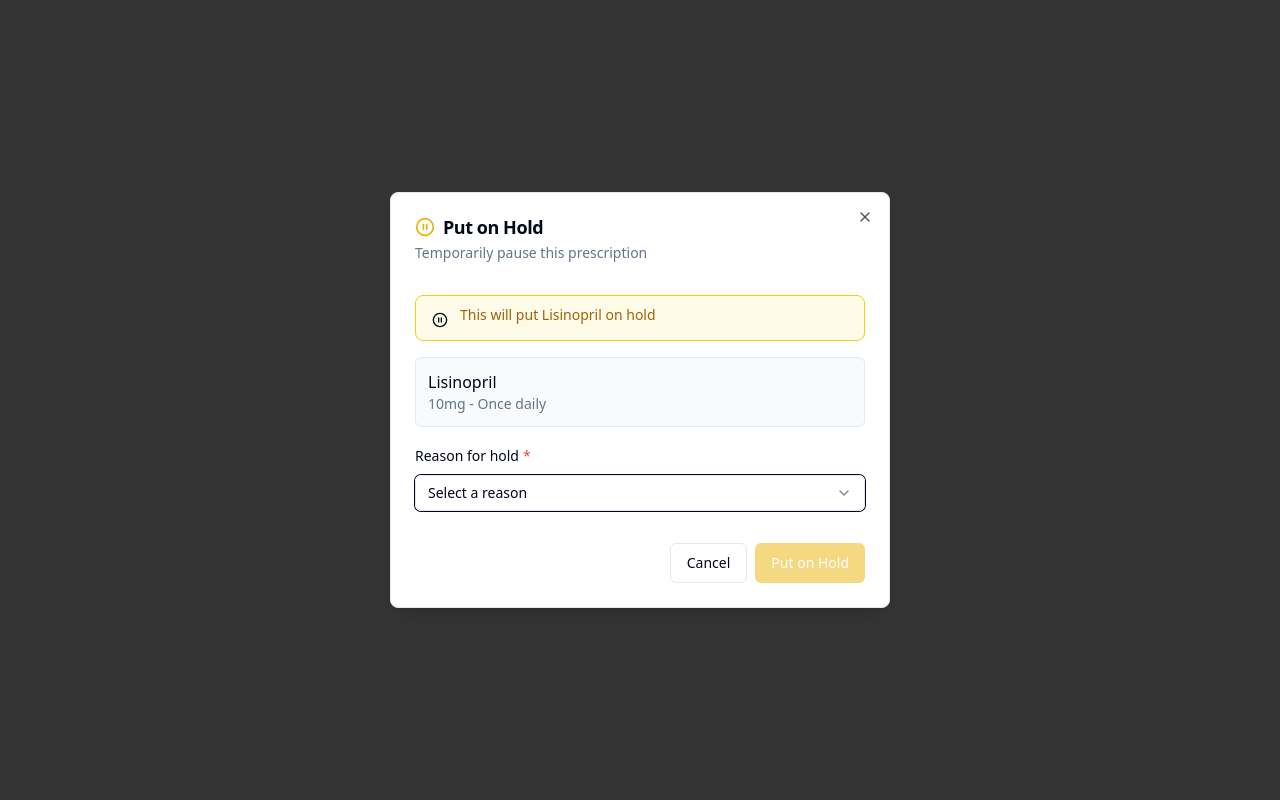
Scenario: HoldDialog › Reason Selection › opens reason dropdown on click
The width and height of the screenshot is (1280, 800).
What coordinates should you click on to do the following:
click the dropdown
I would click on:
 (478, 492)
Its box is 415,475 -> 865,511.
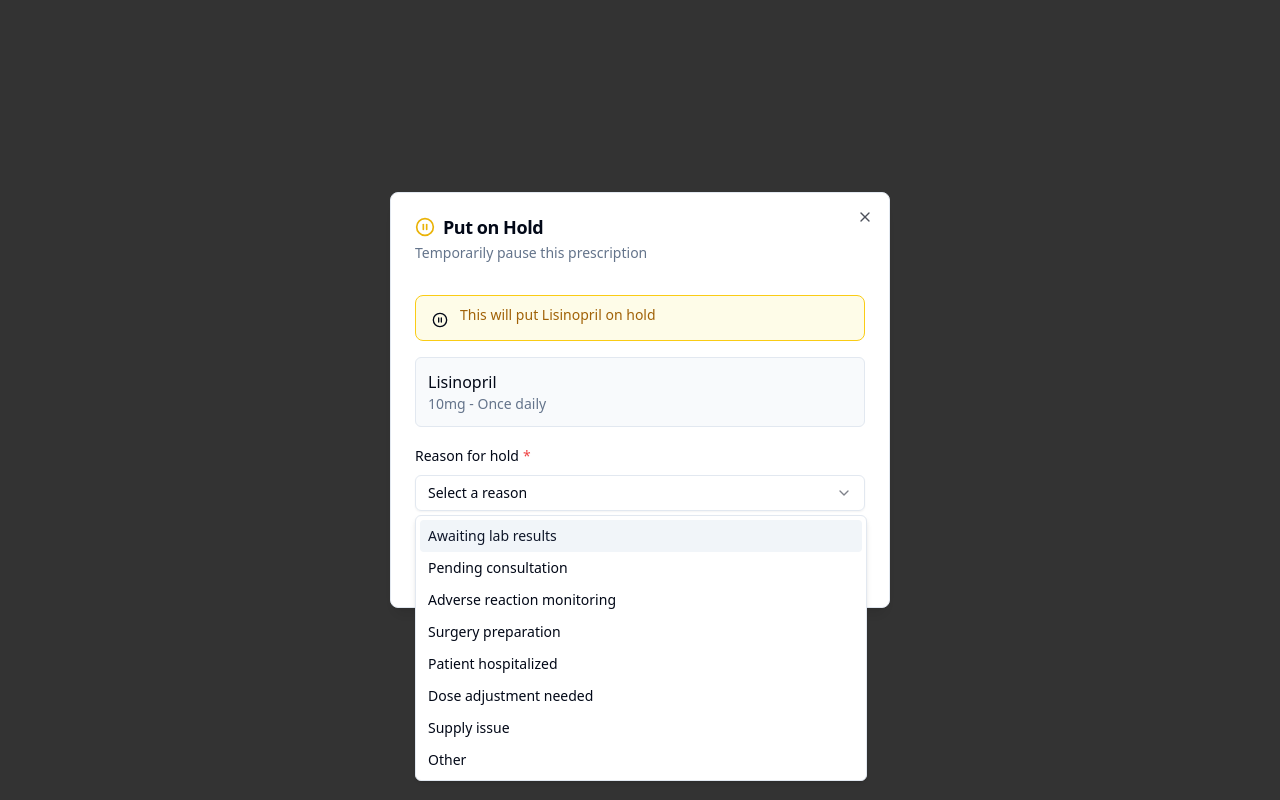
Result: the text "Awaiting lab results" is shown at 428,526 -> 557,546
Result: the text "Pending consultation" is shown at 428,558 -> 568,578
